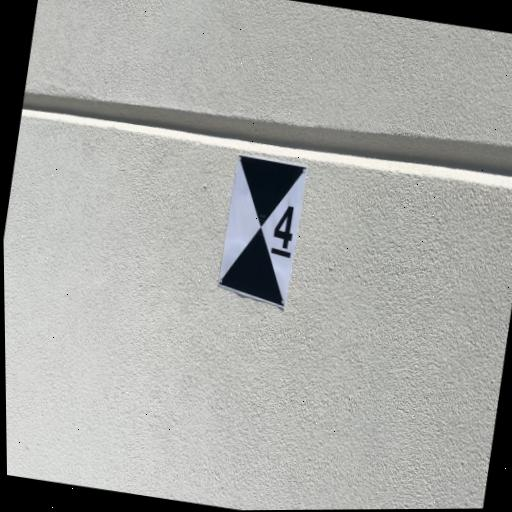target4: (216, 156, 310, 308)
